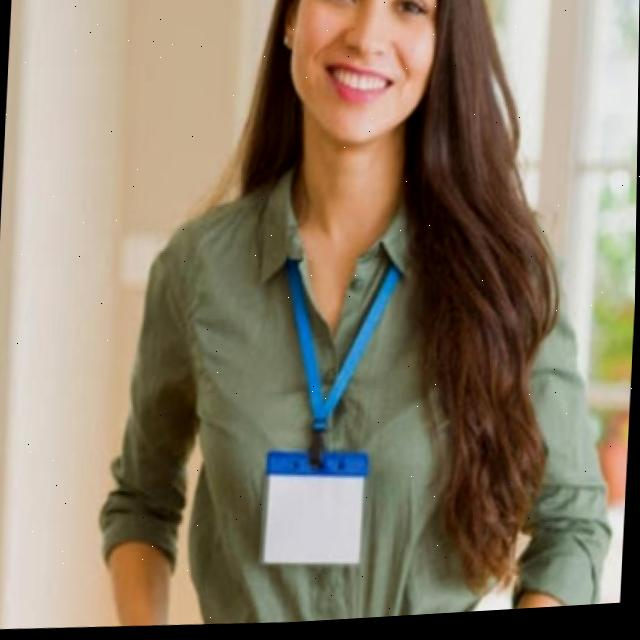id_card: (248, 223, 408, 586)
